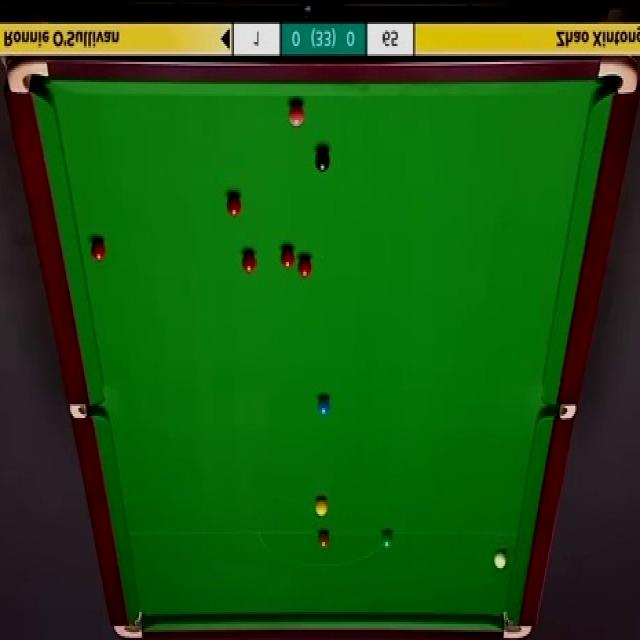pocket: (595, 57, 638, 97), (6, 60, 49, 97), (501, 609, 534, 640), (112, 611, 145, 638), (540, 403, 577, 422), (69, 404, 103, 422)
